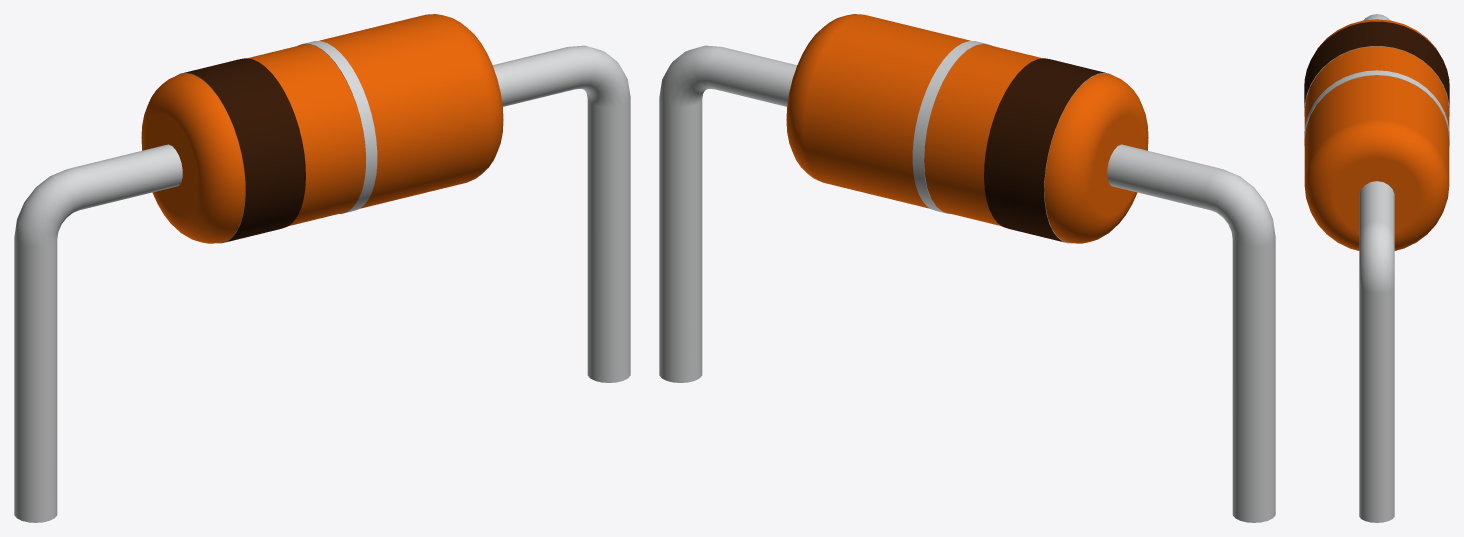
3 renders of one model, left to right at view 1: azimuth 30°, elevation 25°; view 2: azimuth 150°, elevation 25°; view 3: azimuth 270°, elevation 25°, orthographic. The views are drawn at different scales.
Parts seen in each view (by area): view 1: 389D9047DE77957DCBBB0598E343DC5D624FE0CA|:|B8A4396250C5687B1, 64CD1D6D95D4D4903C026DC81FA444A5DFF85820|:|B8A4396250C5687B1, CDF48D78A206930AF9C341DE82C0F407EA3223C5|:|B8A4396250C5687B1, D6CF0C8FAFDE4B78BAAA94CF878ABD6BA26B50E9|:|B8A4396250C5687B1; view 2: 389D9047DE77957DCBBB0598E343DC5D624FE0CA|:|B8A4396250C5687B1, 64CD1D6D95D4D4903C026DC81FA444A5DFF85820|:|B8A4396250C5687B1, CDF48D78A206930AF9C341DE82C0F407EA3223C5|:|B8A4396250C5687B1, D6CF0C8FAFDE4B78BAAA94CF878ABD6BA26B50E9|:|B8A4396250C5687B1; view 3: 389D9047DE77957DCBBB0598E343DC5D624FE0CA|:|B8A4396250C5687B1, 64CD1D6D95D4D4903C026DC81FA444A5DFF85820|:|B8A4396250C5687B1, CDF48D78A206930AF9C341DE82C0F407EA3223C5|:|B8A4396250C5687B1, D6CF0C8FAFDE4B78BAAA94CF878ABD6BA26B50E9|:|B8A4396250C5687B1.
Boxes of the visible parts, x1,y1,x2,y2 form: 389D9047DE77957DCBBB0598E343DC5D624FE0CA|:|B8A4396250C5687B1: (141, 14, 503, 243); 64CD1D6D95D4D4903C026DC81FA444A5DFF85820|:|B8A4396250C5687B1: (14, 45, 630, 522); CDF48D78A206930AF9C341DE82C0F407EA3223C5|:|B8A4396250C5687B1: (176, 58, 305, 243); D6CF0C8FAFDE4B78BAAA94CF878ABD6BA26B50E9|:|B8A4396250C5687B1: (297, 41, 377, 213); 389D9047DE77957DCBBB0598E343DC5D624FE0CA|:|B8A4396250C5687B1: (786, 14, 1148, 243); 64CD1D6D95D4D4903C026DC81FA444A5DFF85820|:|B8A4396250C5687B1: (659, 45, 1275, 522); CDF48D78A206930AF9C341DE82C0F407EA3223C5|:|B8A4396250C5687B1: (984, 58, 1113, 243); D6CF0C8FAFDE4B78BAAA94CF878ABD6BA26B50E9|:|B8A4396250C5687B1: (912, 41, 992, 213); 389D9047DE77957DCBBB0598E343DC5D624FE0CA|:|B8A4396250C5687B1: (1304, 19, 1449, 250); 64CD1D6D95D4D4903C026DC81FA444A5DFF85820|:|B8A4396250C5687B1: (1359, 14, 1394, 522); CDF48D78A206930AF9C341DE82C0F407EA3223C5|:|B8A4396250C5687B1: (1304, 21, 1449, 116); D6CF0C8FAFDE4B78BAAA94CF878ABD6BA26B50E9|:|B8A4396250C5687B1: (1304, 70, 1449, 145).
Size of the model in its own units: 0.3197 by 0.197 by 0.0792.
